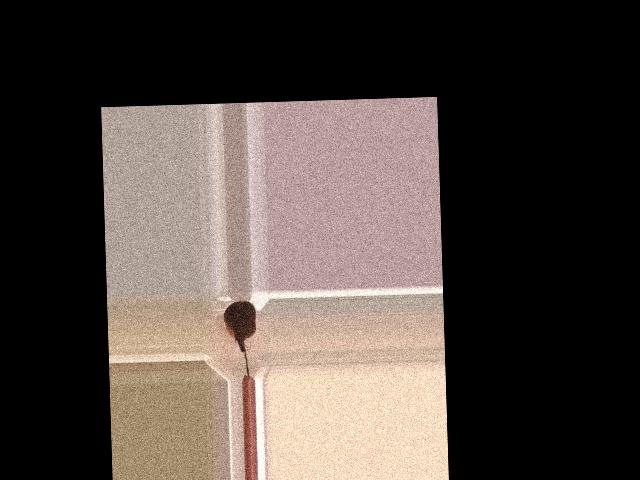beet: (222, 300, 257, 378)
